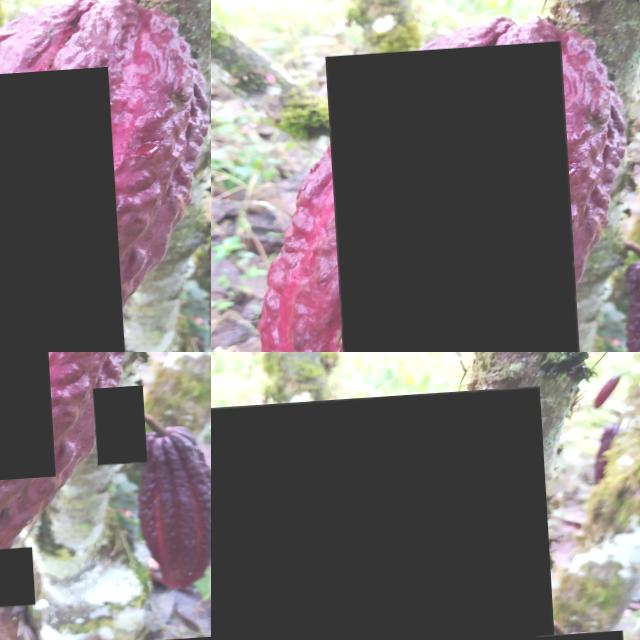Fitoftora: (0, 73, 120, 352)
Sana: (211, 393, 557, 640), (322, 47, 575, 352), (88, 393, 141, 472), (0, 552, 27, 612)
